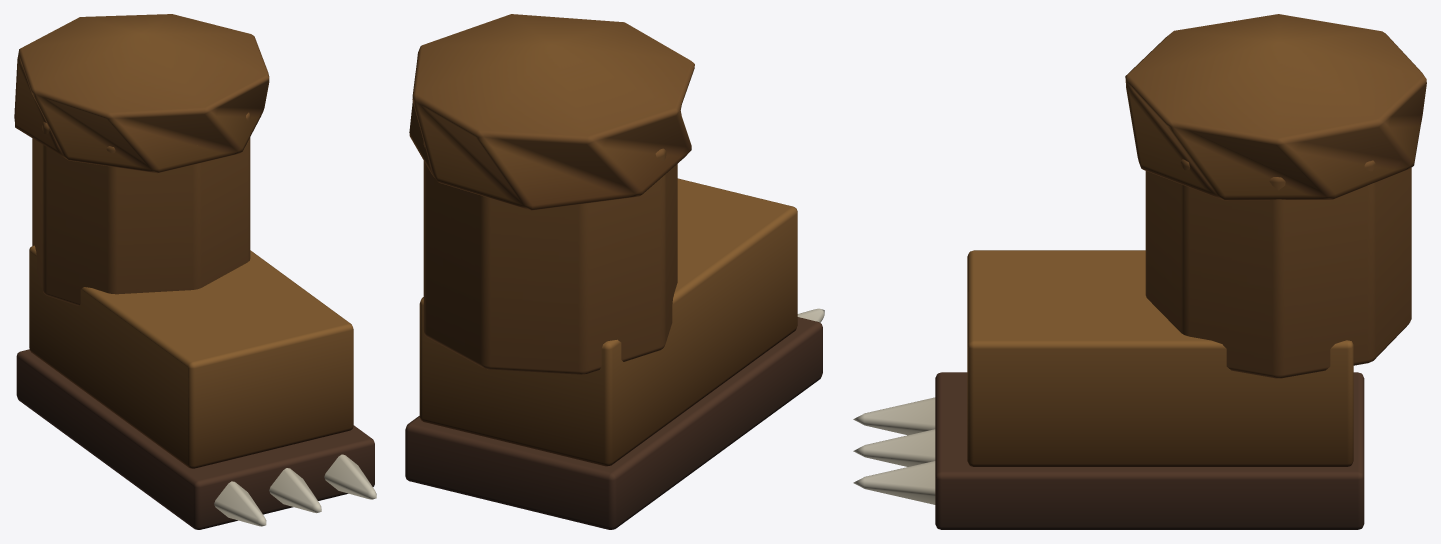
Rendered from paw_boots.glb.
3 views of the same model, side by side, from view 1: azimuth 30°, elevation 25°; view 2: azimuth 150°, elevation 25°; view 3: azimuth 270°, elevation 25° (orthographic). The views are drawn at different scales.
Parts seen in each view (by area): view 1: paw_boots; view 2: paw_boots; view 3: paw_boots.
Boxes of the visible parts, <box> form: paw_boots: <box>14,14,376,529</box>; paw_boots: <box>405,14,824,529</box>; paw_boots: <box>853,14,1426,529</box>.
Size of the model in its own units: 0.5626 by 0.9 by 1.07.
